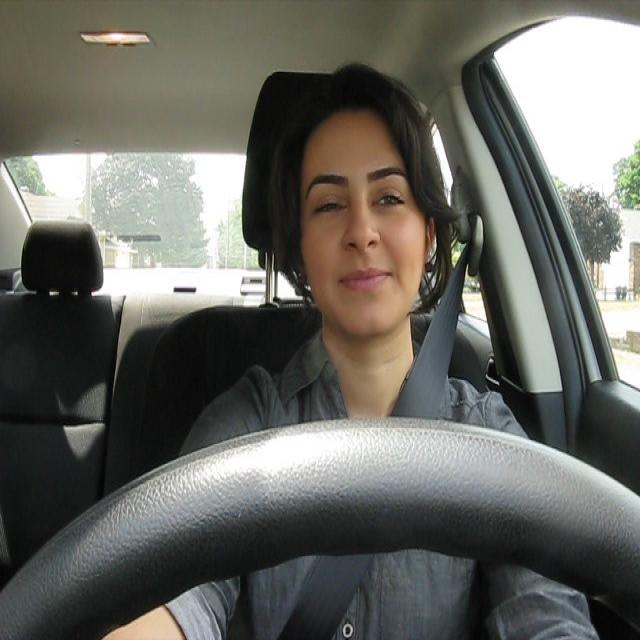Eyeclosed: (314, 197, 344, 220)
Eyeopen: (373, 192, 404, 210)
